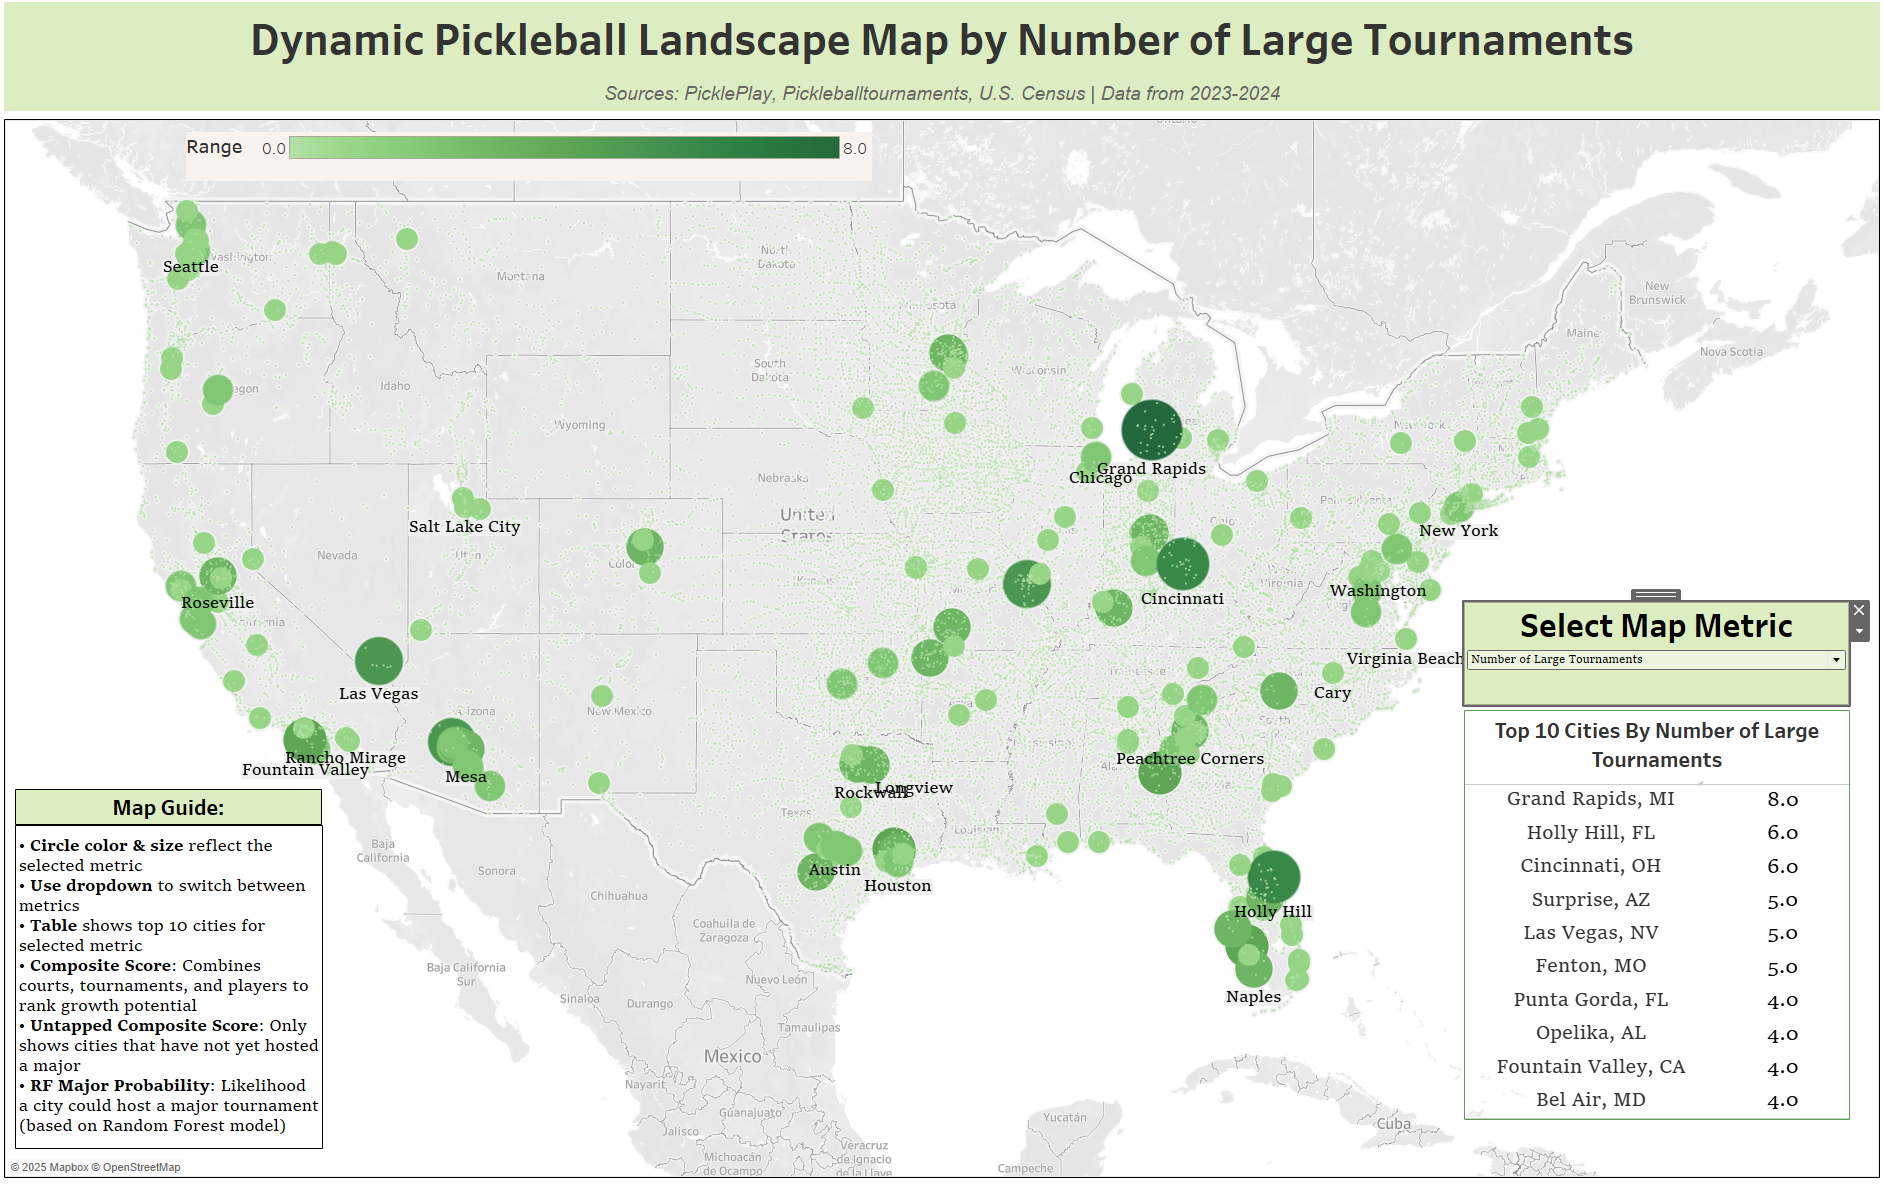

The dashboard page shown, as its layout file describes it:
{"tool":"tableau","page":{"name":"Pickleball Dynamic Overview Map","canvas":[1900,1200],"ordinal":0},"visuals":[{"type":"text","box":[8,8,1884,116.9]},{"type":"worksheet","title":"Dynamic Pickleball Landscape Map","mark":"Automatic","box":[8,124.9,1884,1067.1]},{"type":"legend","title":"Dynamic Pickleball Landscape Map","param":"[federated.1uroyys0okk61s14kenbh1t98qae].[avg:Calculation_2274880825338425361:qk","box":[194,141.8,686,49.1]},{"type":"parameter","param":"[Parameters].[Parameter 2]","box":[1472,612,385,103]},{"type":"worksheet","title":"Top 10","mark":"Automatic","rows":["city_state"],"box":[1472,720,386,410]},{"type":"text","box":[23,799,307,36]},{"type":"text","box":[23,835,308,324]}]}

Visuals, with their boxes in screenshot pixels (x1, y1, x2, y2), scaled from the page's 1900x1200 canvas onto the 1883x1184 screenshot:
text: {"x1": 8, "y1": 8, "x2": 1875, "y2": 123}
"Dynamic Pickleball Landscape Map" worksheet: {"x1": 8, "y1": 123, "x2": 1875, "y2": 1176}
"Dynamic Pickleball Landscape Map" legend: {"x1": 192, "y1": 140, "x2": 872, "y2": 188}
parameter: {"x1": 1459, "y1": 604, "x2": 1840, "y2": 705}
"Top 10" worksheet: {"x1": 1459, "y1": 710, "x2": 1841, "y2": 1115}
text: {"x1": 23, "y1": 788, "x2": 327, "y2": 824}
text: {"x1": 23, "y1": 824, "x2": 328, "y2": 1144}
